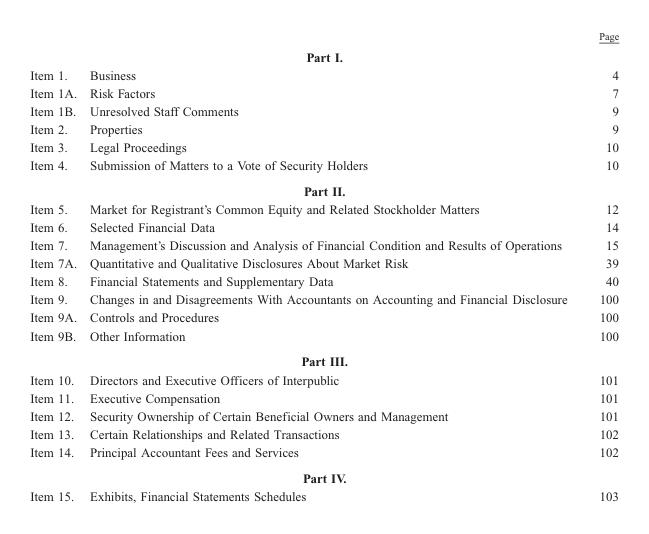table: (29, 29, 618, 502)
table column: (82, 29, 582, 502), (29, 29, 82, 502), (582, 29, 618, 502)
table column header: (29, 29, 618, 44)
table projected row header: (29, 177, 618, 199), (29, 348, 618, 370), (29, 464, 618, 486), (29, 44, 618, 65)
table row: (29, 155, 618, 177), (29, 177, 618, 199), (29, 326, 618, 348), (29, 348, 618, 370), (29, 442, 618, 464), (29, 464, 618, 486), (29, 44, 618, 65), (29, 271, 618, 290), (29, 65, 618, 83), (29, 83, 618, 101), (29, 101, 618, 119), (29, 119, 618, 137), (29, 137, 618, 155), (29, 199, 618, 217), (29, 217, 618, 235), (29, 235, 618, 253), (29, 253, 618, 271), (29, 290, 618, 308), (29, 308, 618, 326), (29, 370, 618, 388), (29, 388, 618, 406), (29, 406, 618, 424), (29, 424, 618, 442), (29, 486, 618, 502), (29, 29, 618, 44)
